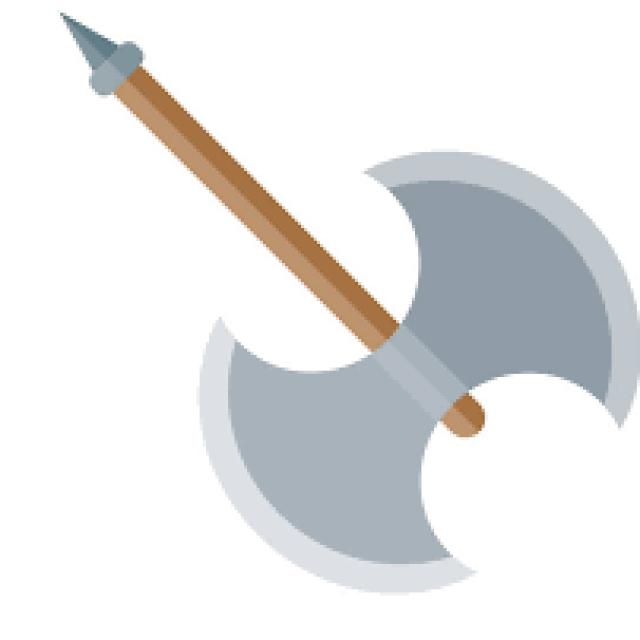Gun: (41, 3, 640, 640)
